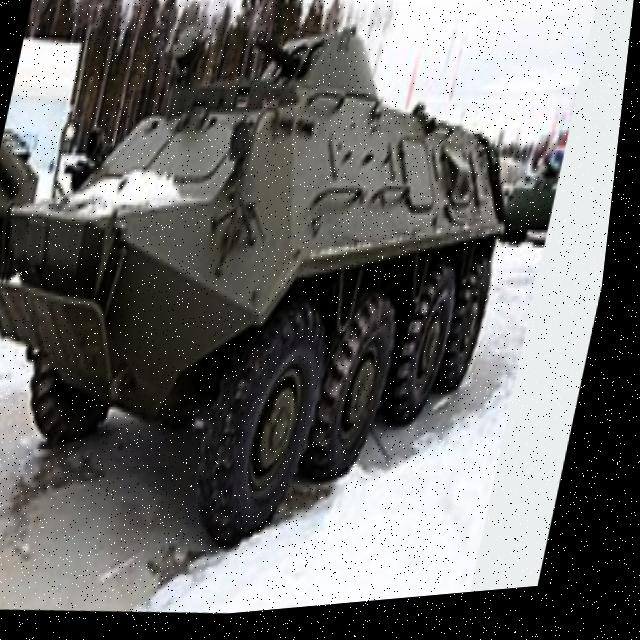MIL_APC: (0, 23, 570, 552)
